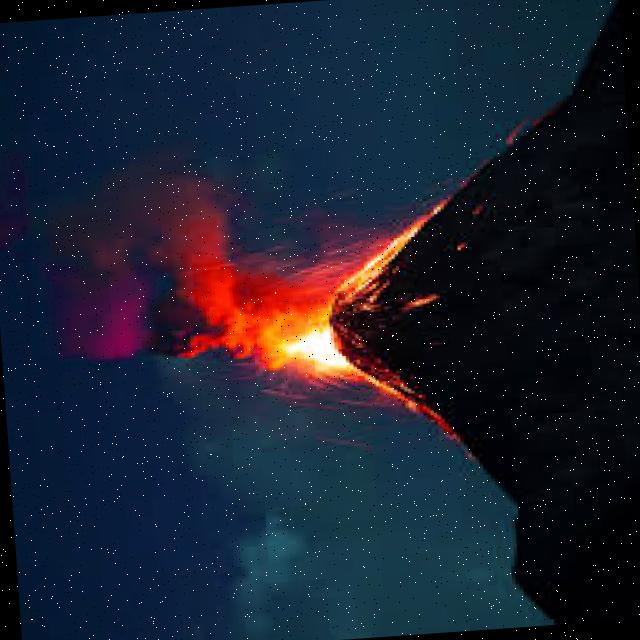explosion: (9, 144, 459, 488)
